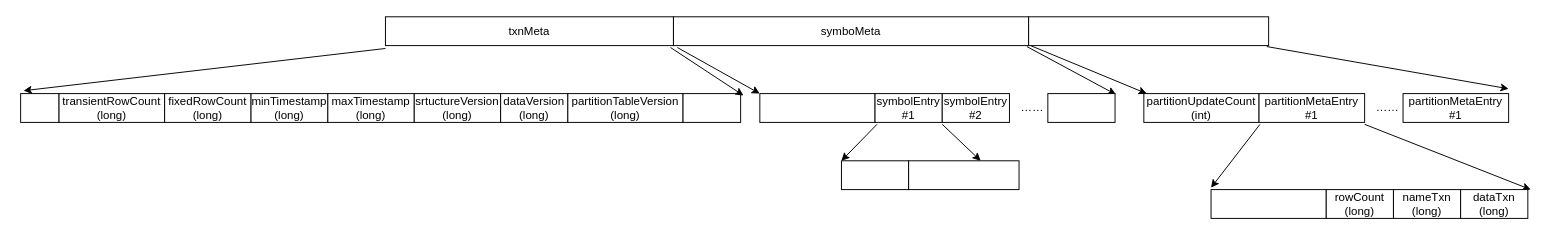
The diagram is 1556 pixels wide and 235 high, and some of its shapes have lost their labels. Each missing label, with the centre of its shape:
partitionMeta: the point at 1148,31
parttionTimestampLo (long): the point at 1268,203
symbolEntry #N: the point at 1081,107
symbolMapCount (int): the point at 817,107
symCount (int): the point at 874,175
transientSymCount (int): the point at 963,175
txn (long): the point at 39,107
txnCheck (long): the point at 711,107
